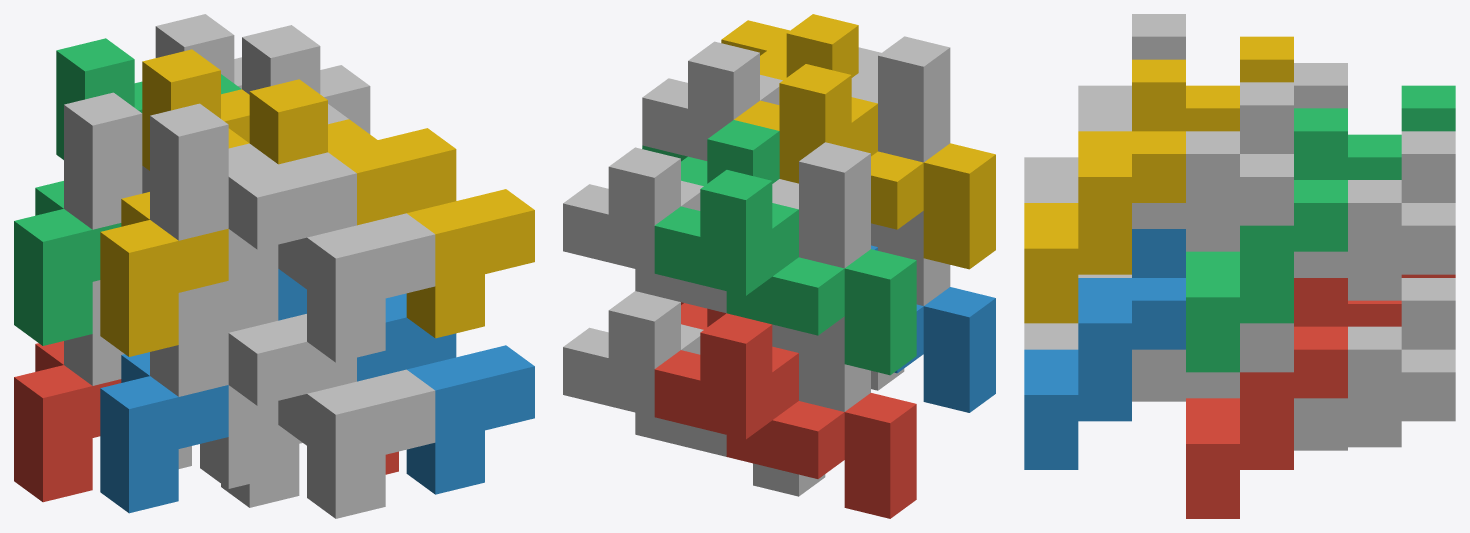
File: tiling.obj
3 renders of one model, left to right at view 1: azimuth 30°, elevation 25°; view 2: azimuth 150°, elevation 25°; view 3: azimuth 270°, elevation 25°, orthographic. The views are drawn at different scales.
Parts seen in each view (by area): view 1: copy_2_domain_4, copy_2_domain_2, copy_2_domain_8, copy_1_domain_4, copy_2_domain_6, copy_1_domain_3, copy_1_domain_2, copy_1_domain_8, copy_1_domain_1, copy_2_domain_3, copy_1_domain_6, copy_2_domain_1 (+1 smaller); view 2: copy_1_domain_1, copy_1_domain_3, copy_1_domain_4, copy_1_domain_5, copy_1_domain_7, copy_1_domain_8, copy_2_domain_4, copy_2_domain_3, copy_1_domain_2, copy_2_domain_8, copy_2_domain_1, copy_2_domain_7 (+2 smaller); view 3: copy_2_domain_8, copy_2_domain_6, copy_2_domain_7, copy_2_domain_5, copy_1_domain_5, copy_1_domain_7, copy_1_domain_8, copy_2_domain_4, copy_1_domain_6, copy_1_domain_4, copy_1_domain_3, copy_2_domain_3 (+2 smaller).
Part boxes in pixels (box(x1,y1,x2,y2)): copy_2_domain_4: box(150, 103, 435, 362); copy_2_domain_2: box(150, 281, 435, 518); copy_2_domain_8: box(249, 79, 534, 338); copy_1_domain_4: box(100, 49, 249, 356); copy_2_domain_6: box(278, 269, 534, 494); copy_1_domain_3: box(14, 38, 142, 345); copy_1_domain_2: box(100, 352, 228, 513); copy_1_domain_8: box(228, 25, 370, 332); copy_1_domain_1: box(14, 341, 121, 502); copy_2_domain_3: box(64, 92, 149, 229); copy_1_domain_6: box(200, 385, 278, 488); copy_2_domain_1: box(64, 280, 302, 507); copy_1_domain_1: box(654, 313, 916, 518); copy_1_domain_3: box(654, 170, 916, 375); copy_1_domain_4: box(734, 64, 995, 269); copy_1_domain_5: box(563, 291, 825, 496); copy_1_domain_7: box(563, 147, 798, 352); copy_1_domain_8: box(642, 41, 877, 246); copy_2_domain_4: box(851, 36, 950, 162); copy_2_domain_3: box(772, 142, 870, 268); copy_1_domain_2: box(871, 245, 995, 412); copy_2_domain_8: box(721, 14, 858, 80); copy_2_domain_1: box(799, 316, 870, 411); copy_2_domain_7: box(642, 120, 779, 185); copy_2_domain_8: box(1024, 59, 1185, 323); copy_2_domain_6: box(1024, 229, 1185, 469); copy_2_domain_7: box(1186, 108, 1347, 372); copy_2_domain_5: box(1186, 278, 1347, 518); copy_1_domain_5: box(1294, 278, 1455, 450); copy_1_domain_7: box(1294, 131, 1455, 300); copy_1_domain_8: box(1132, 82, 1293, 251); copy_2_domain_4: box(1024, 14, 1185, 202); copy_1_domain_6: box(1132, 323, 1293, 401); copy_1_domain_4: box(1186, 36, 1293, 131); copy_1_domain_3: box(1348, 85, 1455, 179); copy_2_domain_3: box(1294, 63, 1347, 108).
Size of the model in its own units: 7 by 8 by 8.
